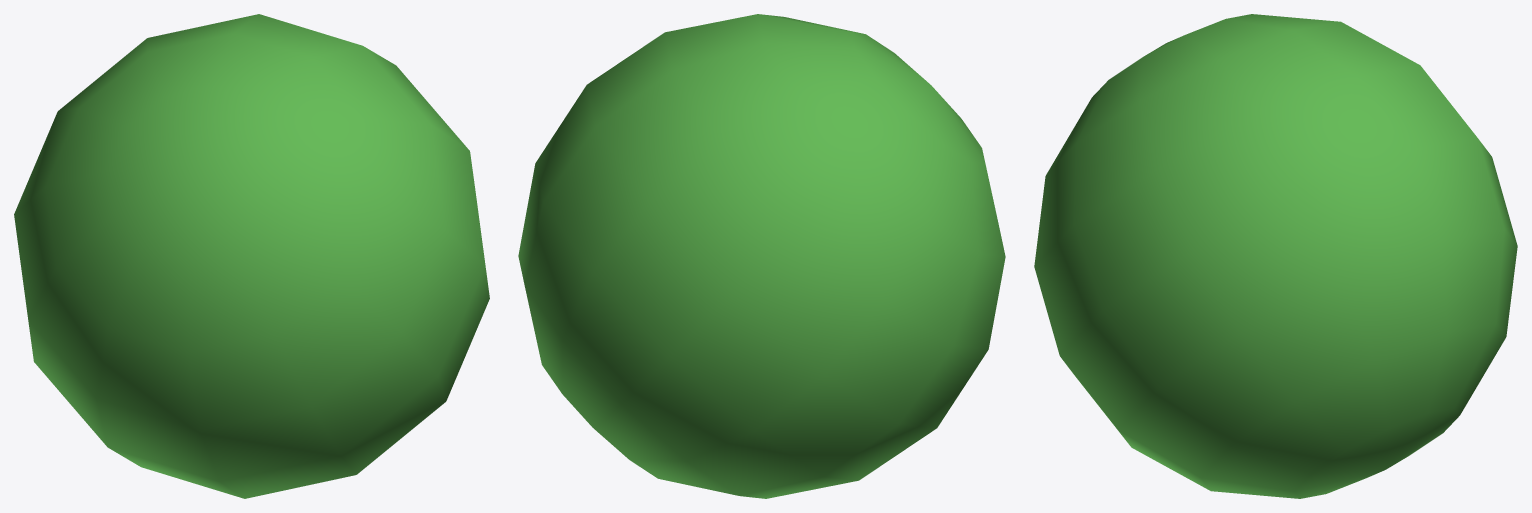
Rendered from linfatico-node-of-ligamentum-arteriosum.glb.
The picture shows the model from 3 angles, left to right: view 1: azimuth 30°, elevation 25°; view 2: azimuth 150°, elevation 25°; view 3: azimuth 270°, elevation 25°; orthographic projection.
Parts seen in each view (by area): view 1: Node of ligamentum arteriosum; view 2: Node of ligamentum arteriosum; view 3: Node of ligamentum arteriosum.
Boxes of the visible parts, <box> form: Node of ligamentum arteriosum: <box>14,14,489,498</box>; Node of ligamentum arteriosum: <box>518,14,1005,498</box>; Node of ligamentum arteriosum: <box>1034,14,1517,498</box>.
Bounding box in the file's own units: 0.00256 × 0.00259 × 0.00257.
